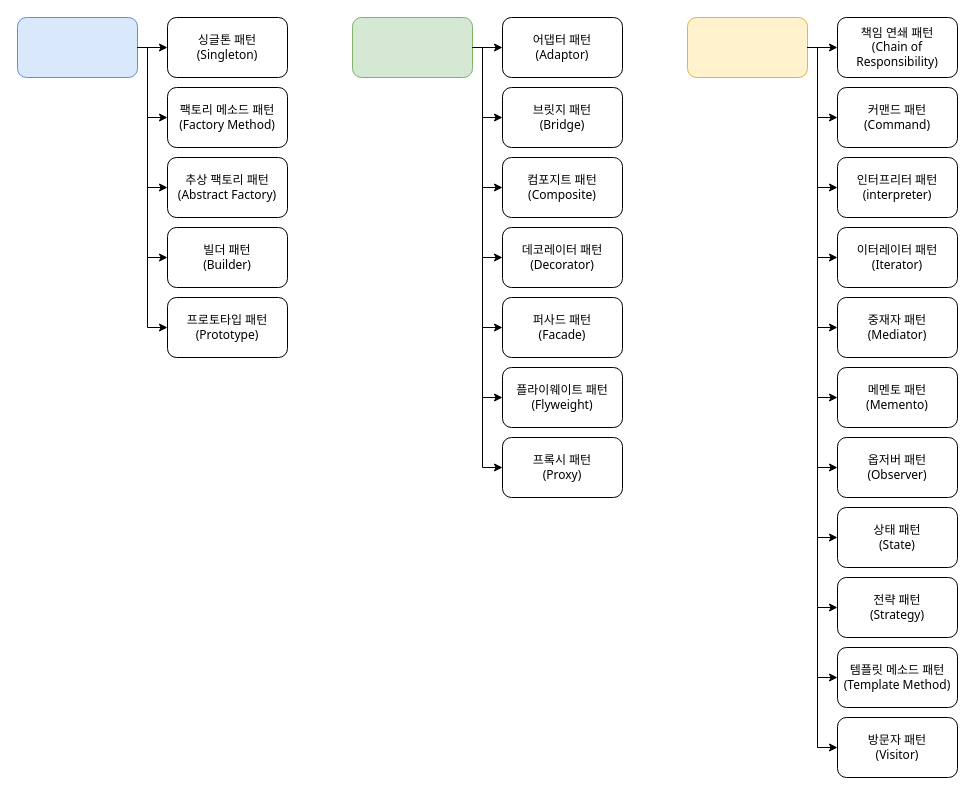
This 975x795 diagram has some shape labels left out. Here are the shapes that lost their labels. From the top down, the centre of each, then its label:
At [77,47]: "생성 관련 (Creational)".
At [412,47]: "구조 관련 (Structural)".
At [747,47]: "행동 관련 패턴 (Behavioral)".
